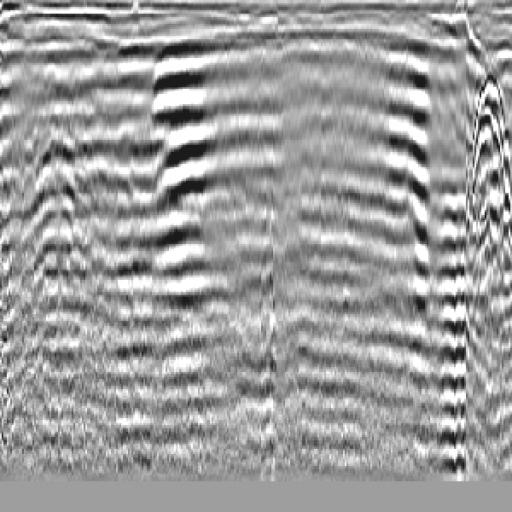non-metallic: (113, 26, 439, 446), (424, 175, 479, 480), (21, 130, 97, 304), (467, 65, 512, 298)
